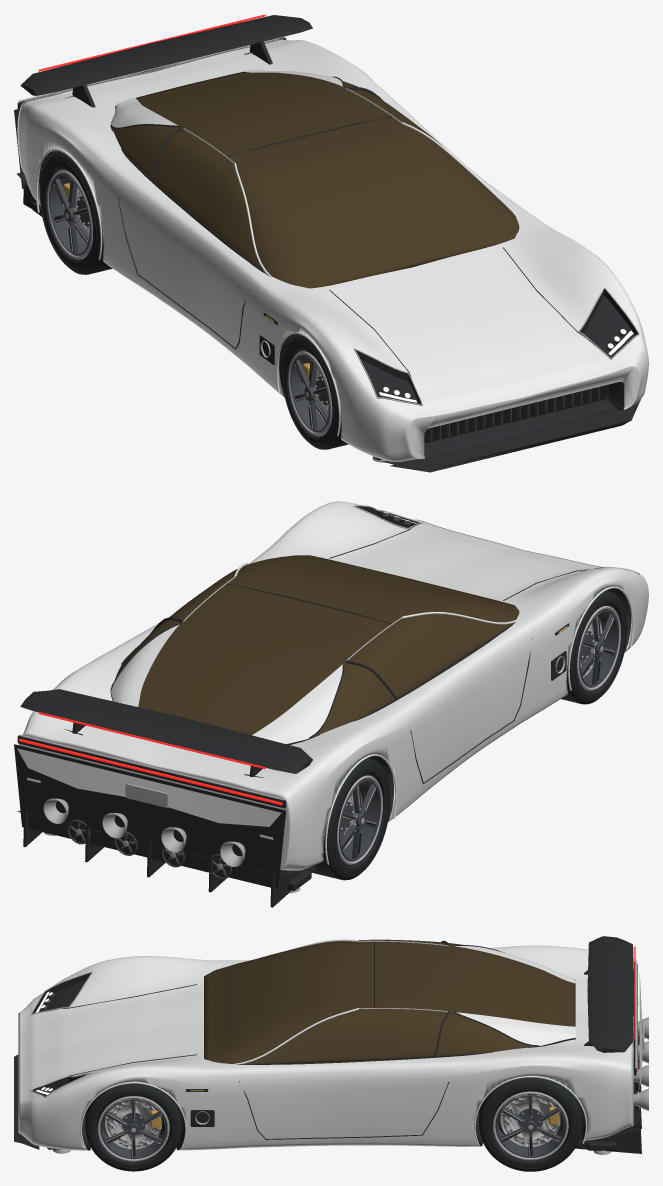
Rendered from roadster-rocket.glb.
3 renders of one model, top to bottom at view 1: azimuth 30°, elevation 25°; view 2: azimuth 150°, elevation 25°; view 3: azimuth 270°, elevation 25°, orthographic. The views are drawn at different scales.
Visible parts, largest first — view 1: Body__Ano_White, Body__Gold_Glass, Body__Carbon, Rear_Wing__Carbon, Spinner_RL__Rubber, Spinner_RL__Wheel_Graphite, Spinner_FL__Rubber, Body__Thruster_Throat, Spinner_FL__Wheel_Graphite, Body__Titanium, Body__Wheel_Graphite, Spinner_RL__Titanium (+1 smaller); view 2: Body__Ano_White, Body__Gold_Glass, Body__Carbon, Rear_Wing__Carbon, Body__Titanium, Spinner_RL__Rubber, Spinner_RL__Wheel_Graphite, Spinner_FL__Rubber, Spinner_FL__Wheel_Graphite, Body__Wheel_Graphite, Body__Brake_Lamp, Spinner_RL__Titanium (+2 smaller); view 3: Body__Ano_White, Body__Gold_Glass, Rear_Wing__Carbon, Body__Carbon, Spinner_RR__Rubber, Spinner_FR__Rubber, Spinner_RR__Titanium, Spinner_FR__Titanium, Body__Titanium, Spinner_RR__Wheel_Graphite, Spinner_FR__Wheel_Graphite.
Boxes of the visible parts, left/top/right/bottom form: Body__Ano_White: left=17, top=39, right=648, bottom=461; Body__Gold_Glass: left=112, top=71, right=519, bottom=288; Body__Carbon: left=14, top=37, right=640, bottom=472; Rear_Wing__Carbon: left=20, top=15, right=312, bottom=95; Spinner_RL__Rubber: left=40, top=152, right=112, bottom=274; Spinner_RL__Wheel_Graphite: left=49, top=170, right=91, bottom=257; Spinner_FL__Rubber: left=282, top=335, right=348, bottom=449; Body__Thruster_Throat: left=424, top=385, right=606, bottom=443; Spinner_FL__Wheel_Graphite: left=290, top=351, right=330, bottom=434; Body__Titanium: left=19, top=36, right=639, bottom=462; Body__Wheel_Graphite: left=381, top=329, right=626, bottom=441; Spinner_RL__Titanium: left=47, top=170, right=92, bottom=259; Body__Ano_White: left=17, top=501, right=648, bottom=870; Body__Gold_Glass: left=115, top=555, right=519, bottom=744; Body__Carbon: left=14, top=518, right=578, bottom=907; Rear_Wing__Carbon: left=20, top=689, right=312, bottom=773; Body__Titanium: left=18, top=505, right=639, bottom=893; Spinner_RL__Rubber: left=312, top=758, right=390, bottom=880; Spinner_RL__Wheel_Graphite: left=339, top=775, right=381, bottom=863; Spinner_FL__Rubber: left=561, top=590, right=626, bottom=704; Spinner_FL__Wheel_Graphite: left=579, top=605, right=619, bottom=689; Body__Wheel_Graphite: left=67, top=512, right=410, bottom=878; Body__Brake_Lamp: left=19, top=738, right=282, bottom=805; Spinner_RL__Titanium: left=337, top=775, right=382, bottom=864; Body__Ano_White: left=18, top=939, right=642, bottom=1150; Body__Gold_Glass: left=204, top=939, right=575, bottom=1064; Rear_Wing__Carbon: left=587, top=936, right=634, bottom=1052; Body__Carbon: left=14, top=940, right=641, bottom=1153; Spinner_RR__Rubber: left=479, top=1077, right=582, bottom=1171; Spinner_FR__Rubber: left=85, top=1083, right=181, bottom=1171; Spinner_RR__Titanium: left=493, top=1091, right=568, bottom=1160; Spinner_FR__Titanium: left=97, top=1096, right=169, bottom=1161; Body__Titanium: left=30, top=940, right=648, bottom=1154; Spinner_RR__Wheel_Graphite: left=493, top=1091, right=568, bottom=1157; Spinner_FR__Wheel_Graphite: left=98, top=1096, right=169, bottom=1159.
Bounding box in the file's own units: 2.03 × 1.11 × 4.51.
